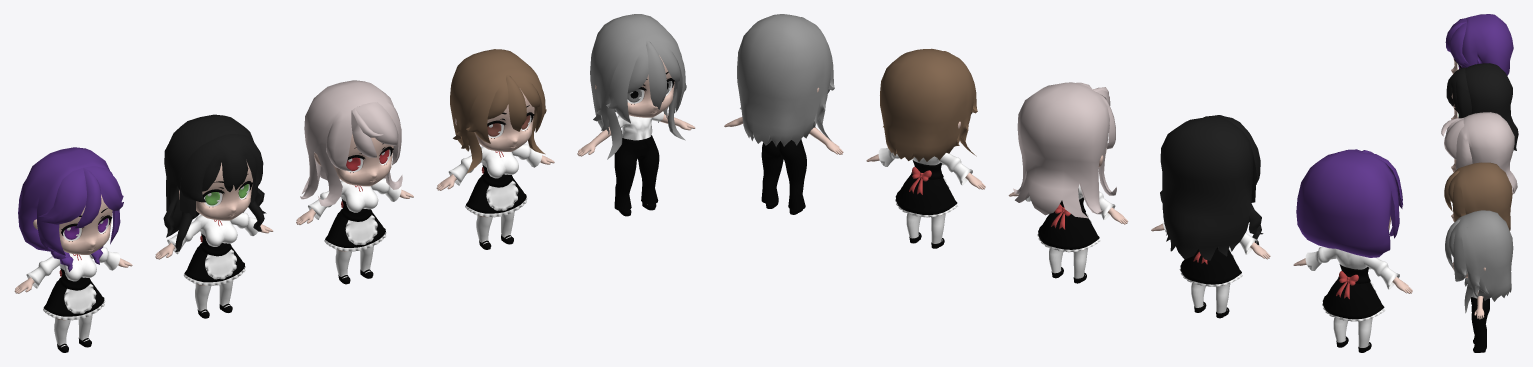
File: ChibiMaidvCustomer.fbx
3 views of the same model, side by side, from view 1: azimuth 30°, elevation 25°; view 2: azimuth 150°, elevation 25°; view 3: azimuth 270°, elevation 25° (orthographic). The views are drawn at different scales.
Visible parts, largest first — view 1: Maid3, Maid4, Maid2, Customer, Maid1; view 2: Maid3, Maid2, Maid4, Customer, Maid1; view 3: Customer, Maid2, Maid3, Maid1, Maid4.
Boxes of the visible parts, x1=… form: Maid3: x1=155, y1=114, x2=273, y2=318; Maid4: x1=14, y1=147, x2=132, y2=352; Maid2: x1=296, y1=80, x2=413, y2=284; Customer: x1=577, y1=14, x2=695, y2=216; Maid1: x1=436, y1=49, x2=554, y2=249; Maid3: x1=1151, y1=115, x2=1270, y2=318; Maid2: x1=1008, y1=82, x2=1128, y2=283; Maid4: x1=1293, y1=149, x2=1412, y2=352; Customer: x1=724, y1=14, x2=843, y2=214; Maid1: x1=866, y1=48, x2=985, y2=248; Customer: x1=1445, y1=210, x2=1513, y2=352; Maid2: x1=1441, y1=112, x2=1517, y2=193; Maid3: x1=1446, y1=63, x2=1518, y2=150; Maid1: x1=1444, y1=162, x2=1512, y2=230; Maid4: x1=1445, y1=14, x2=1513, y2=75.
Bounding box in the file's own units: 483 × 129 × 67.31.
